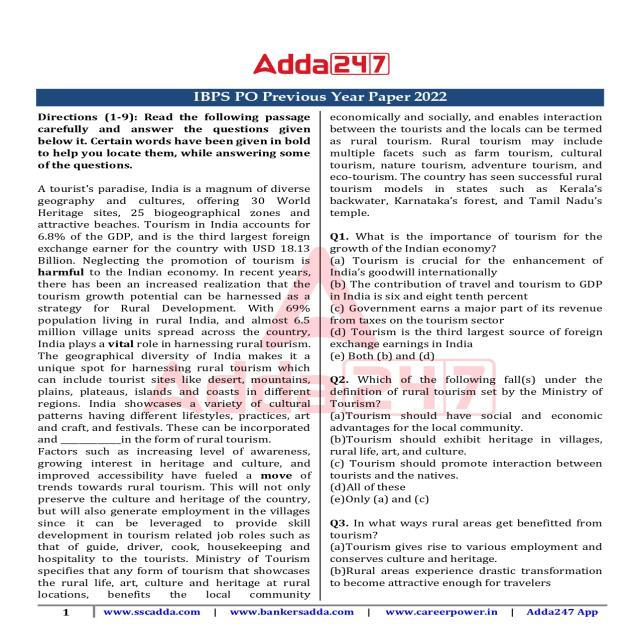Answer_Block: (324, 255, 618, 362), (322, 411, 616, 508), (322, 543, 616, 591)
Instruction: (22, 108, 316, 603)
Question_Answer_Block: (322, 371, 616, 508), (324, 226, 618, 362), (322, 514, 616, 591)
Question_Block: (322, 370, 616, 410), (324, 227, 618, 256), (322, 514, 616, 540)
Question_Paper_Area: (22, 108, 316, 603), (324, 108, 618, 603)
